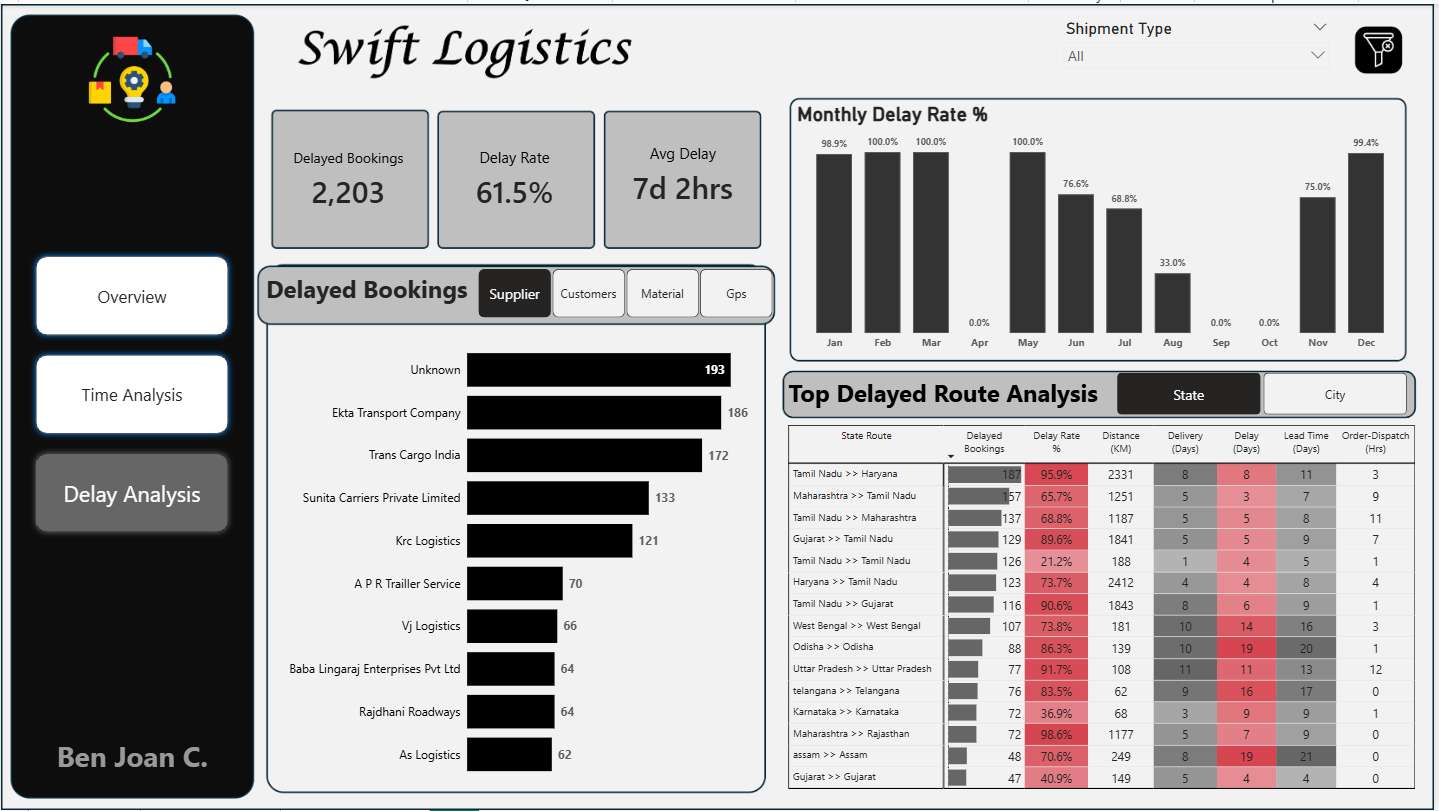

The dashboard page shown, as its layout file describes it:
{"tool":"powerbi","page":{"name":"Delay Analysis","canvas":[1920,1080],"ordinal":2},"visuals":[{"type":"clusteredColumnChart","title":"Monthly Delay Rate %","fields":{"Y":["_Measures.Delay Rate %"],"Category":["Date.Booking Month Name"]},"box":[1061.3,132.2,823,340.7],"z":0},{"type":"cardVisual","fields":{"Data":["_Measures.Delay Rate %"]},"box":[584.6,139,207.7,190.9],"z":1000},{"type":"cardVisual","fields":{"Data":["_Measures.Delayed Bookings"]},"box":[361.8,140.7,207.7,189.3],"z":2000},{"type":"cardVisual","fields":{"Data":["_Measures.Avg Delay"]},"box":[809.9,141.5,206.7,176.9],"z":3000},{"type":"pivotTable","fields":{"Rows":["Location.City Route"],"Values":["_Measures.Delayed Bookings","_Measures.Delay Rate %","_Measures.AVG DISTANCE","_Measures.Avg Delivery Days","_Measures.Avg Delay Days","_Measures.Avg Lead Time","_Measures.Order Processing Time"]},"box":[1050.2,559.4,857.6,497.5],"z":5000},{"type":"textbox","box":[1050.1,493.4,428.2,65.2],"z":6000},{"type":"clusteredBarChart","fields":{"Category":["Primary Data.Supplier Name"],"Y":["_Measures.Delayed Bookings"]},"box":[361.8,432.1,654.9,624.8],"z":7000},{"type":"bookmarkNavigator","box":[639.8,355.1,395.3,65.3],"z":11000},{"type":"textbox","box":[350.1,355.1,289.8,65.3],"z":12000},{"type":"bookmarkNavigator","box":[1495.7,494.1,388.6,56.9],"z":13000},{"type":"textbox","box":[38.5,978.2,274.7,63.6],"z":14000},{"type":"image","box":[1803.5,27.9,83.7,66.3],"z":15000},{"type":"slicer","fields":{"Values":["Primary Data.Shipment Type"]},"box":[1413.2,14.9,376.1,80.1],"z":16000},{"type":"pageNavigator","box":[38.5,330,274.7,386.9],"z":17000},{"type":"image","box":[38.5,43.5,274.7,115.6],"z":18000}]}

Visuals, with their boxes in screenshot pixels (x1, y1, x2, y2), scaled from the page's 1920x1080 canvas onto the 1439x811 screenshot:
"Monthly Delay Rate %" clusteredColumnChart: 795:99:1412:355
cardVisual - _Measures.Delay Rate %: 438:104:594:248
cardVisual - _Measures.Delayed Bookings: 271:106:427:248
cardVisual - _Measures.Avg Delay: 607:106:762:239
pivotTable - Location.City Route x _Measures.Delayed Bookings: 787:420:1430:794
textbox: 787:371:1108:419
clusteredBarChart - Primary Data.Supplier Name x _Measures.Delayed Bookings: 271:324:762:794
bookmarkNavigator: 480:267:776:316
textbox: 262:267:480:316
bookmarkNavigator: 1121:371:1412:414
textbox: 29:735:235:782
image: 1352:21:1414:71
slicer - Primary Data.Shipment Type: 1059:11:1341:71
pageNavigator: 29:248:235:538
image: 29:33:235:119
